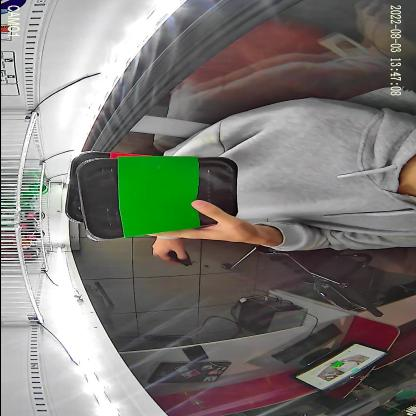green: (75, 156, 237, 242)
red: (64, 150, 154, 224)
